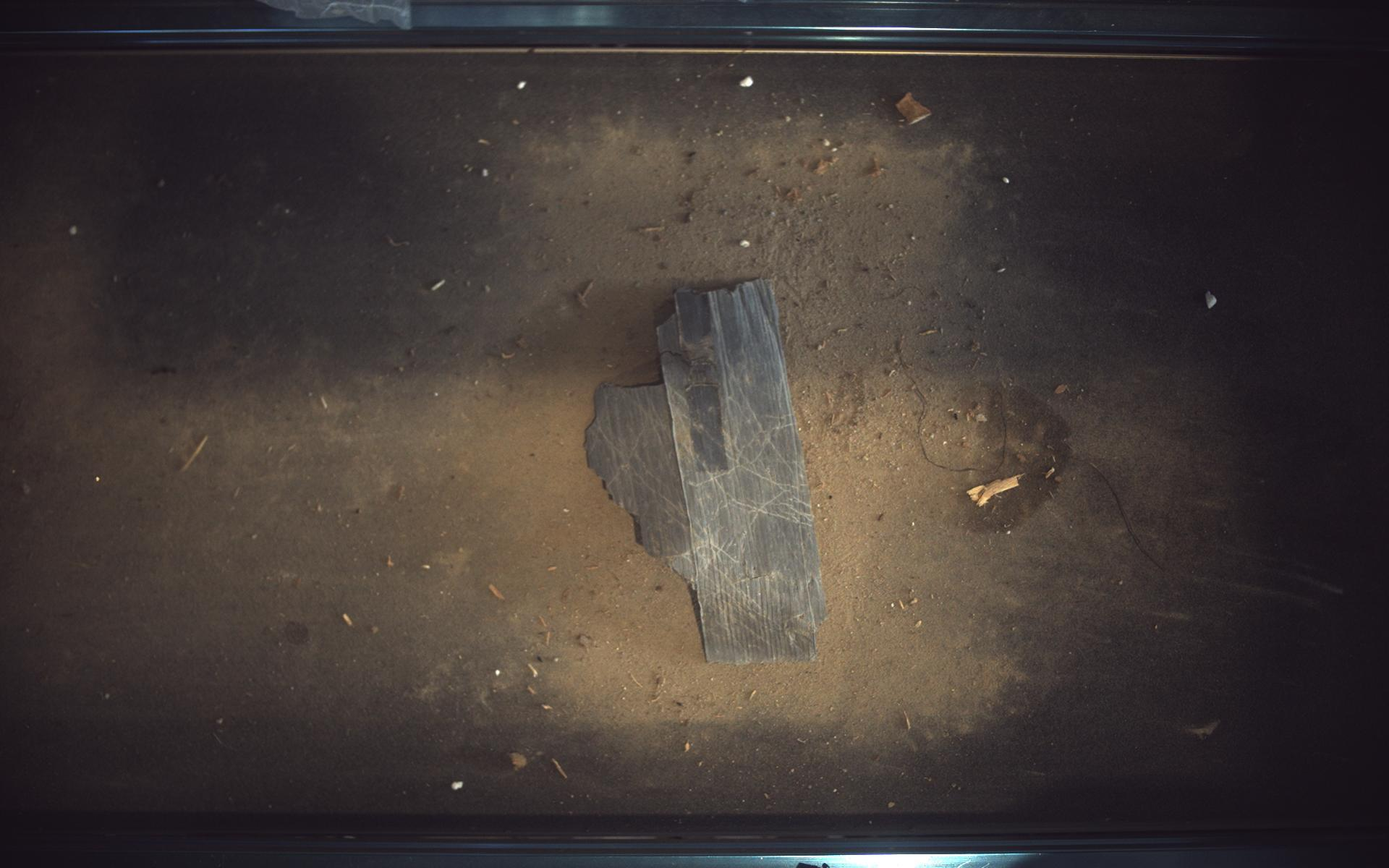plastic: (586, 278, 828, 665)
